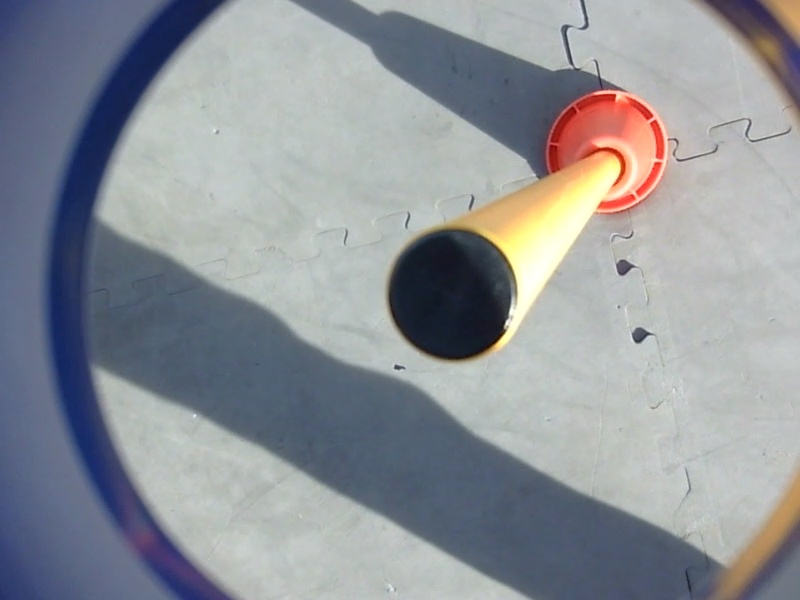tip: (381, 219, 530, 372)
